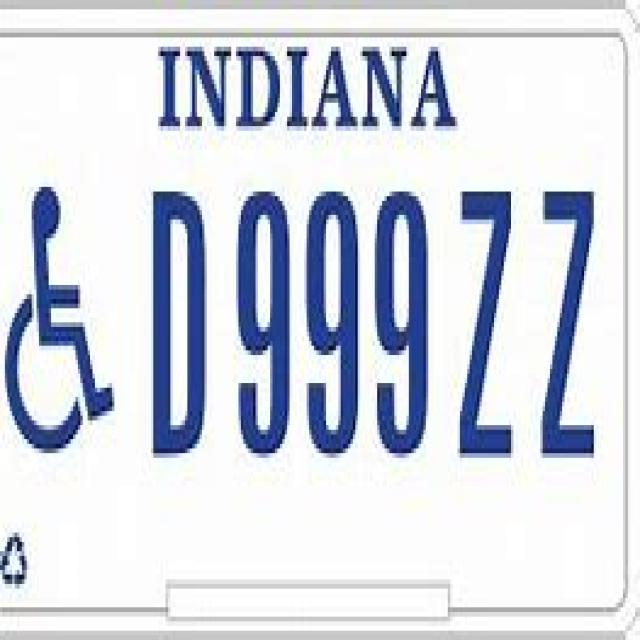car-handicap-placard: (1, 182, 119, 465)
